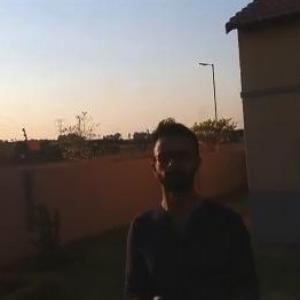follow: (116, 118, 261, 299)
